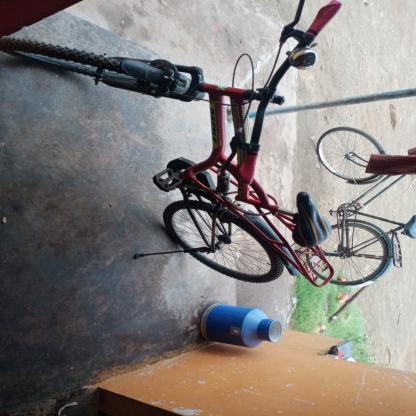bike: (6, 2, 339, 309), (317, 118, 416, 297)
